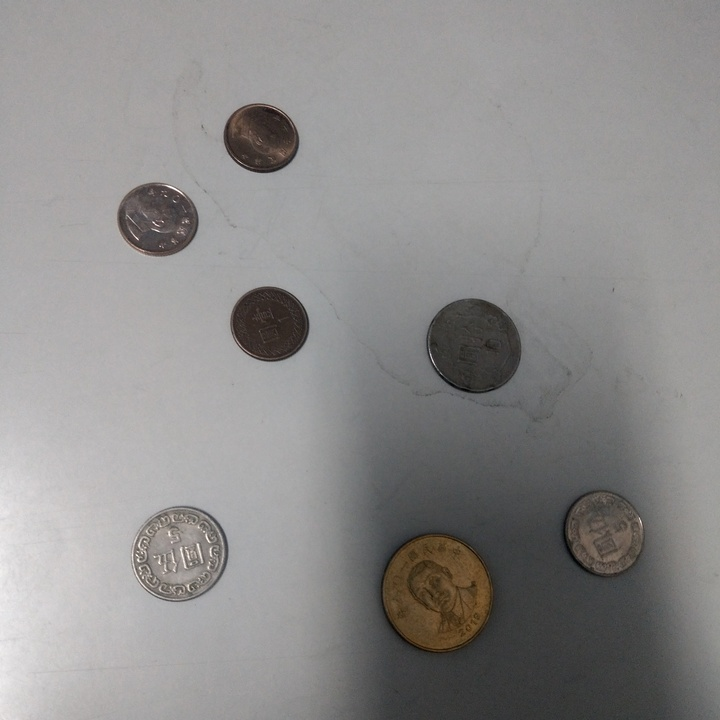1 dollar: (116, 183, 200, 259), (229, 286, 311, 363), (223, 104, 301, 177)
10 dollar: (429, 297, 523, 395)
5 dollar: (130, 507, 227, 604), (564, 488, 648, 578)
50 dollar: (374, 533, 498, 656)
